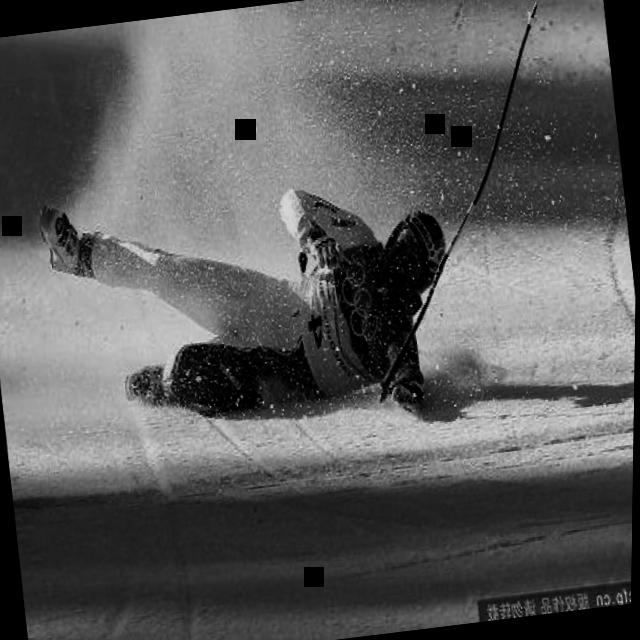Fall-Detected: (2, 104, 483, 463)
